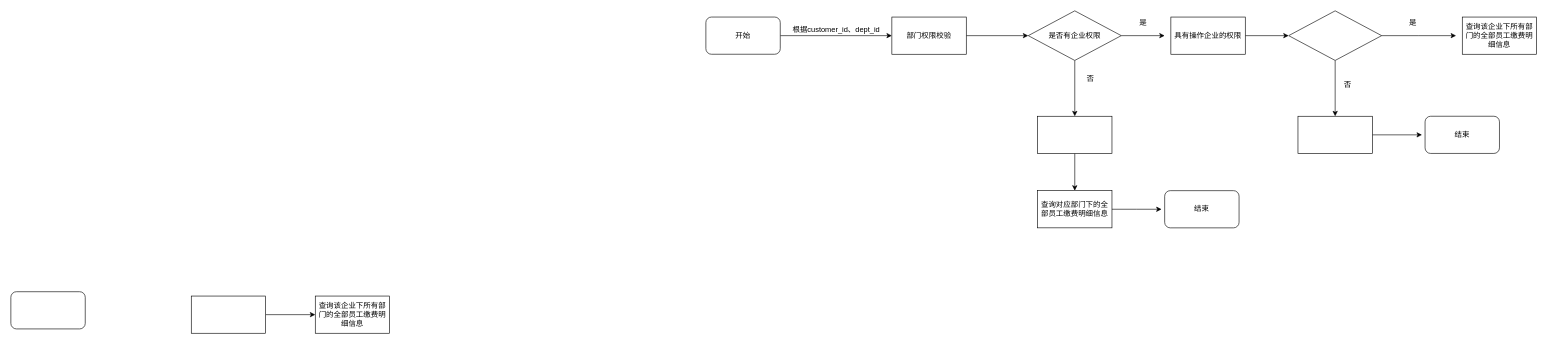
Image size: 1548x344. Some labels were removed from this diagram. The centre of each missing label's shape, as x and y in pixels:
"企业是否有部门" belongs at [1335,35].
"操作员获取操作权限企业" belongs at [228,314].
"查询操作员具有权限的部门" belongs at [1074,134].
"查询该企业下所有全部员工缴费明细信息" belongs at [1334,134].
